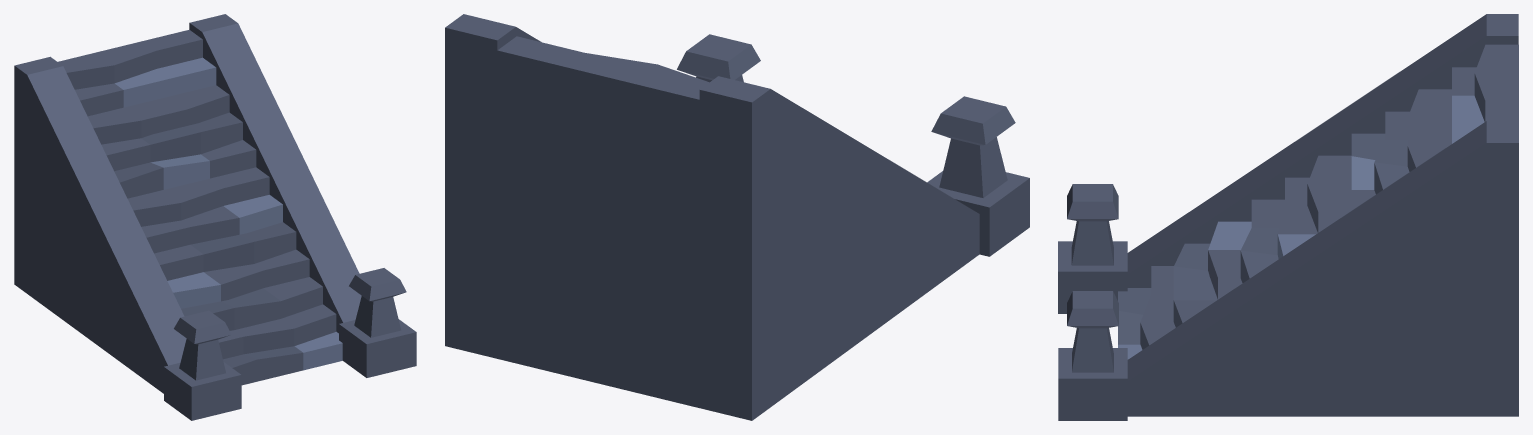
The model's file is escalera.fbx.
3 views of the same model, side by side, from view 1: azimuth 30°, elevation 25°; view 2: azimuth 150°, elevation 25°; view 3: azimuth 270°, elevation 25° (orthographic). The views are drawn at different scales.
Parts seen in each view (by area): view 1: stairs.003; view 2: stairs.003; view 3: stairs.003.
Boxes of the visible parts, x1,y1,x2,y2 form: stairs.003: [14, 14, 416, 420]; stairs.003: [445, 14, 1029, 420]; stairs.003: [1058, 14, 1518, 420].
Bounding box in the file's own units: 341 × 317 × 483.
